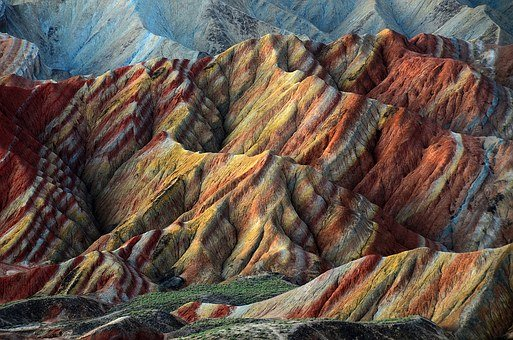mountain: (12, 14, 504, 338)
